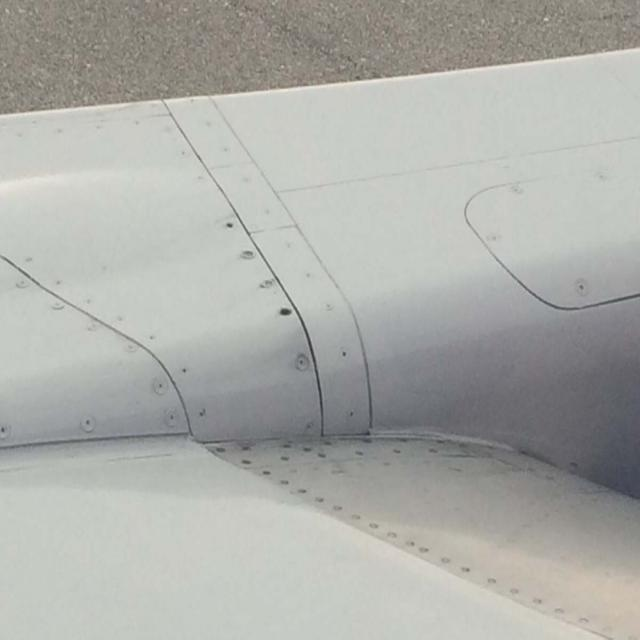crack: (278, 308, 301, 323)
